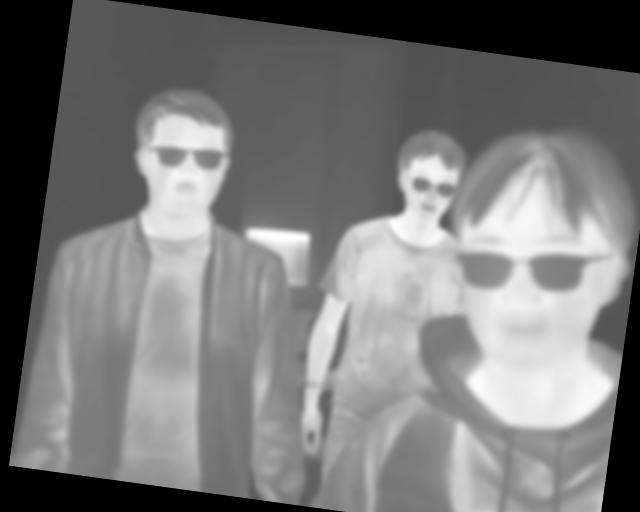face: (434, 114, 640, 382), (123, 81, 242, 225), (386, 122, 469, 229)
